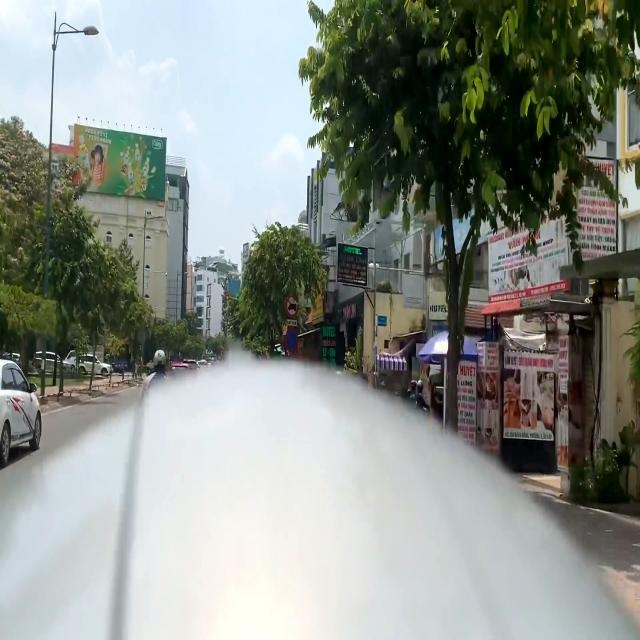bien_cam: (285, 328, 299, 353)
